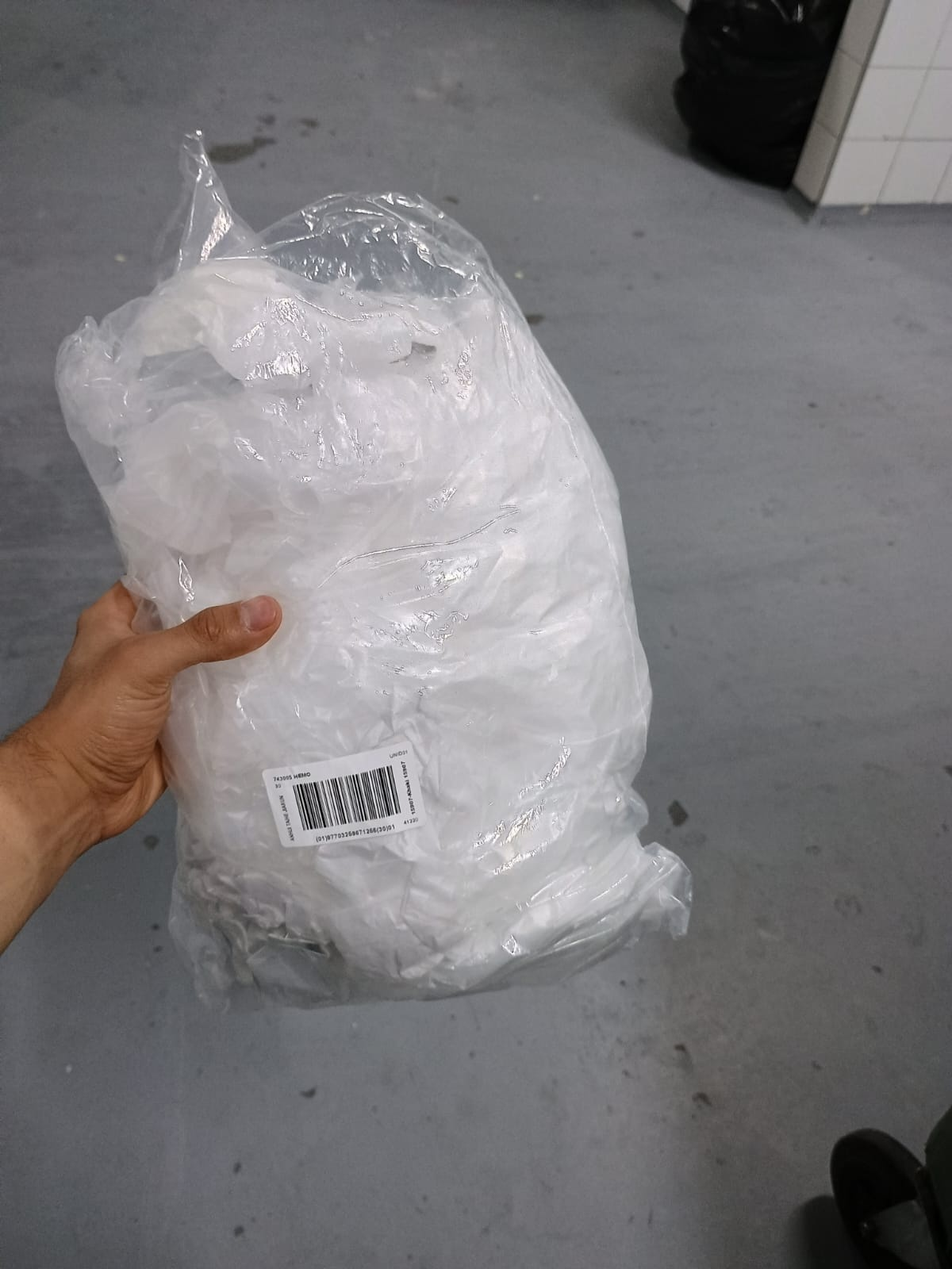Plastico: (50, 196, 692, 1005)
